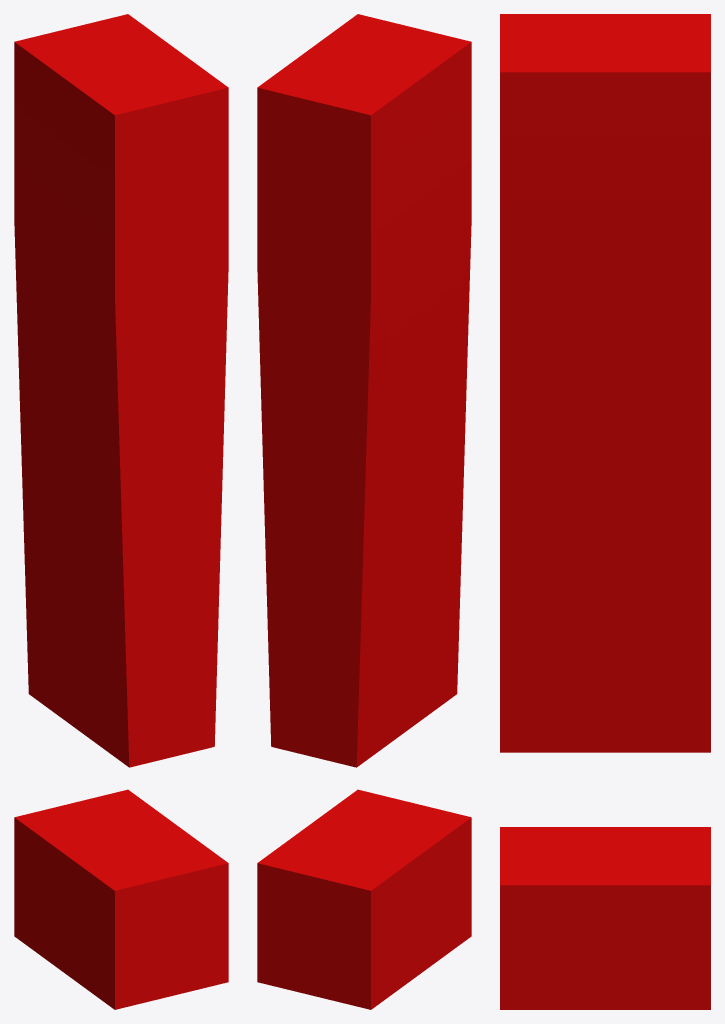
The model's file is exclamation_mark.fbx.
3 renders of one model, left to right at view 1: azimuth 30°, elevation 25°; view 2: azimuth 150°, elevation 25°; view 3: azimuth 270°, elevation 25°, orthographic. The views are drawn at different scales.
Visible parts, largest first — view 1: pasted__typeMesh1; view 2: pasted__typeMesh1; view 3: pasted__typeMesh1.
Boxes of the visible parts, box(x1,y1,x2,y2) form: pasted__typeMesh1: box(14, 14, 228, 1009); pasted__typeMesh1: box(257, 14, 471, 1009); pasted__typeMesh1: box(500, 14, 710, 1009).
Bounding box in the file's own units: 0.3496 × 2.63 × 0.535.
